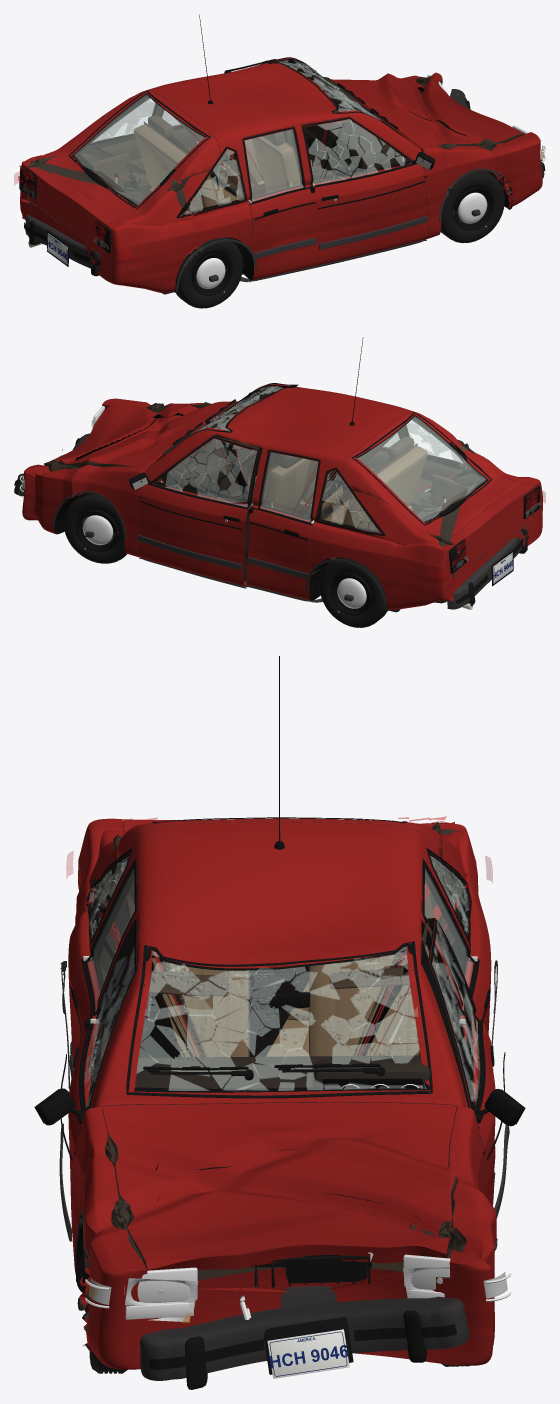
File: hatchback85_front_d1.glb
3 renders of one model, top to bottom at view 1: azimuth 30°, elevation 25°; view 2: azimuth 150°, elevation 25°; view 3: azimuth 270°, elevation 25°, orthographic. The views are drawn at different scales.
Visible parts, largest first — view 1: Body, Interior, Hatch, Door_FR, Glass_Hatch, Hood, Door_RR, Glass, Wheel_FR_mesh, Wheel_RR_mesh, Glass_FR, Glass_RR (+7 smaller); view 2: Body, Interior, Hatch, Door_FL, Glass_Hatch, Hood, Door_RL, Glass_FL, Wheel_RL_mesh, Wheel_FL_mesh, Glass, Glass_RL (+7 smaller); view 3: Body, Hood, Glass, Interior, Bumper_F, Ends, Door_FL, Trim, Door_FR, Trim_FL, Trim_FR, Glass_FL (+8 smaller).
Part boxes in pixels (<box>): Body: <box>20,58,542,292</box>; Interior: <box>91,77,402,211</box>; Hatch: <box>27,89,220,258</box>; Door_FR: <box>301,116,428,265</box>; Glass_Hatch: <box>69,90,210,208</box>; Hood: <box>333,73,524,148</box>; Door_RR: <box>241,126,317,280</box>; Glass: <box>92,57,408,217</box>; Wheel_FR_mesh: <box>440,171,504,243</box>; Wheel_RR_mesh: <box>174,237,243,308</box>; Glass_FR: <box>301,117,411,186</box>; Glass_RR: <box>242,129,305,201</box>; Body: <box>22,384,542,609</box>; Interior: <box>161,391,468,559</box>; Hatch: <box>341,411,534,577</box>; Door_FL: <box>137,434,262,587</box>; Glass_Hatch: <box>351,412,491,525</box>; Hood: <box>44,403,233,468</box>; Door_RL: <box>246,449,321,600</box>; Glass_FL: <box>154,435,260,508</box>; Wheel_RL_mesh: <box>319,557,388,627</box>; Wheel_FL_mesh: <box>63,493,126,563</box>; Glass: <box>156,383,462,534</box>; Glass_RL: <box>258,451,320,522</box>; Body: <box>68,818,496,1369</box>; Hood: <box>101,1102,457,1270</box>; Glass: <box>87,853,469,1098</box>; Interior: <box>123,893,435,1088</box>; Bumper_F: <box>140,1296,469,1389</box>; Ends: <box>85,1252,511,1378</box>; Door_FL: <box>420,918,495,1205</box>; Trim: <box>60,656,497,1330</box>; Door_FR: <box>68,917,138,1259</box>; Trim_FL: <box>429,919,525,1218</box>; Trim_FR: <box>34,918,136,1281</box>; Glass_FL: <box>427,919,479,1101</box>.
Size of the model in its own units: 4.11 by 2.14 by 1.93.
Materials: 33 (5 with a texture image).
